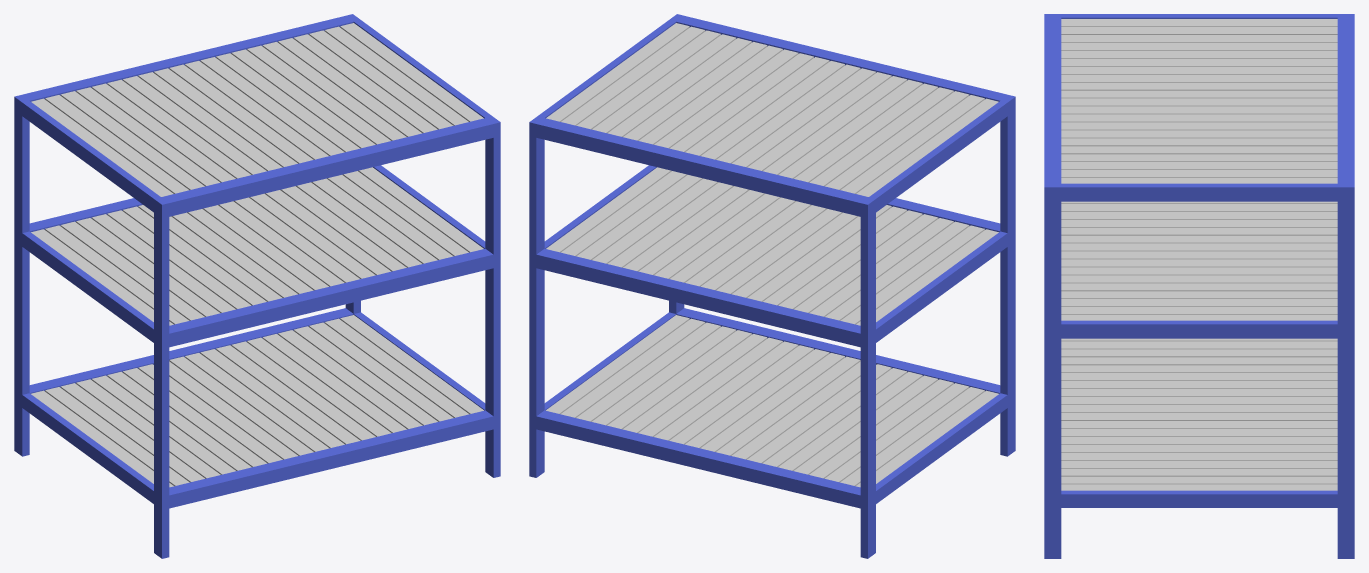
Rendered from model_shelf_01.fbx.
3 views of the same model, side by side, from view 1: azimuth 30°, elevation 25°; view 2: azimuth 150°, elevation 25°; view 3: azimuth 270°, elevation 25° (orthographic). The views are drawn at different scales.
Visible parts, largest first — view 1: Cube.016; view 2: Cube.016; view 3: Cube.016.
Part boxes in pixels (<box>): Cube.016: <box>14,14,500,558</box>; Cube.016: <box>529,14,1015,558</box>; Cube.016: <box>1044,14,1354,558</box>.
Bounding box in the file's own units: 180 × 180 × 136.
